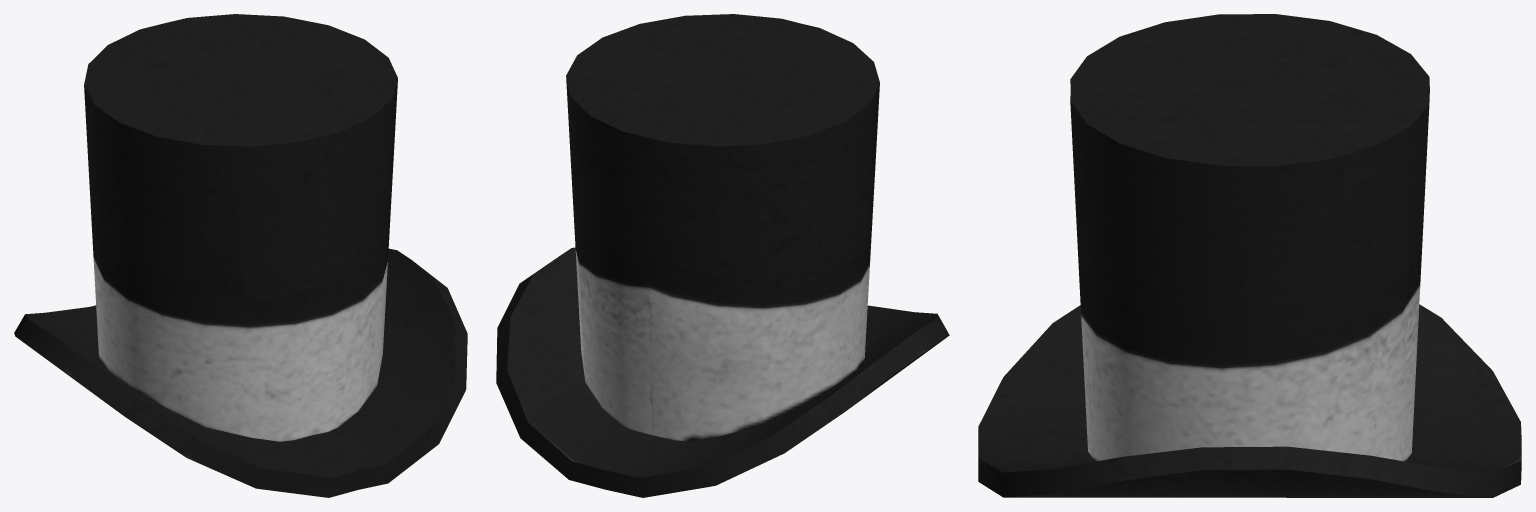
The model's file is hat_richguy.fbx.
3 renders of one model, left to right at view 1: azimuth 30°, elevation 25°; view 2: azimuth 150°, elevation 25°; view 3: azimuth 270°, elevation 25°, orthographic. The views are drawn at different scales.
Parts seen in each view (by area): view 1: tophat1:Mesh; view 2: tophat1:Mesh; view 3: tophat1:Mesh.
Boxes of the visible parts, <box> form: tophat1:Mesh: <box>14,14,467,497</box>; tophat1:Mesh: <box>496,14,949,497</box>; tophat1:Mesh: <box>978,14,1521,497</box>.
Bounding box in the file's own units: 9.97 × 8.26 × 10.85.
